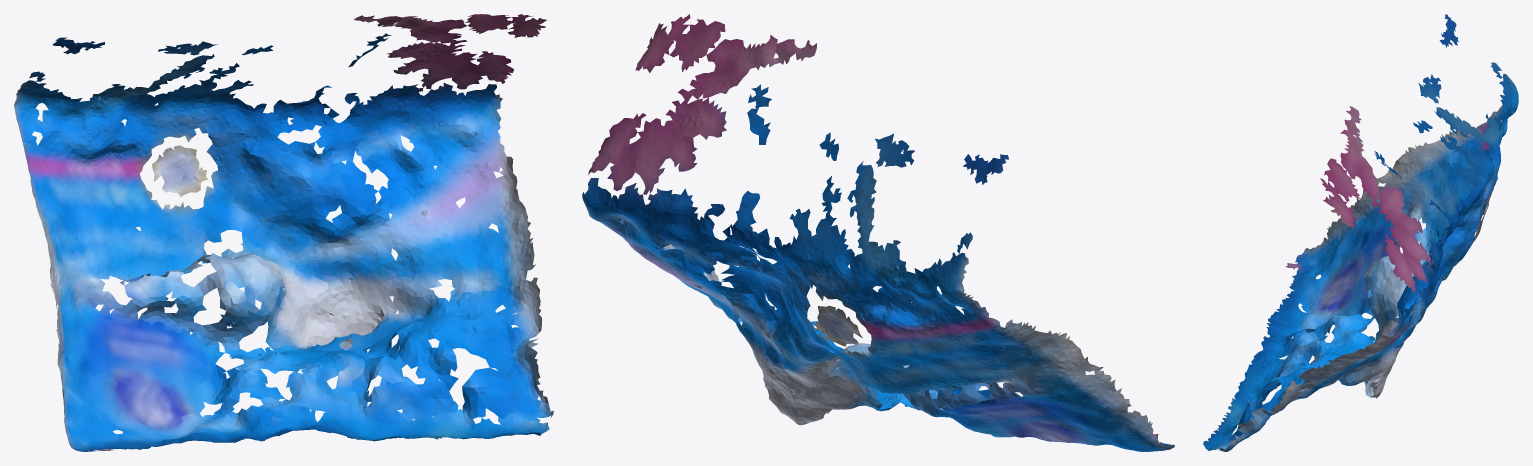
File: tissue_processed.obj
The picture shows the model from 3 angles, left to right: view 1: azimuth 30°, elevation 25°; view 2: azimuth 150°, elevation 25°; view 3: azimuth 270°, elevation 25°; orthographic projection. The views are drawn at different scales.
Bounding box in the file's own units: 0.7576 × 0.544 × 0.5054.
1 material, 1 textured.
